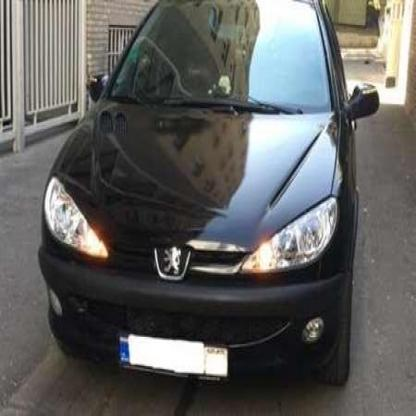Car: (36, 0, 370, 408)
